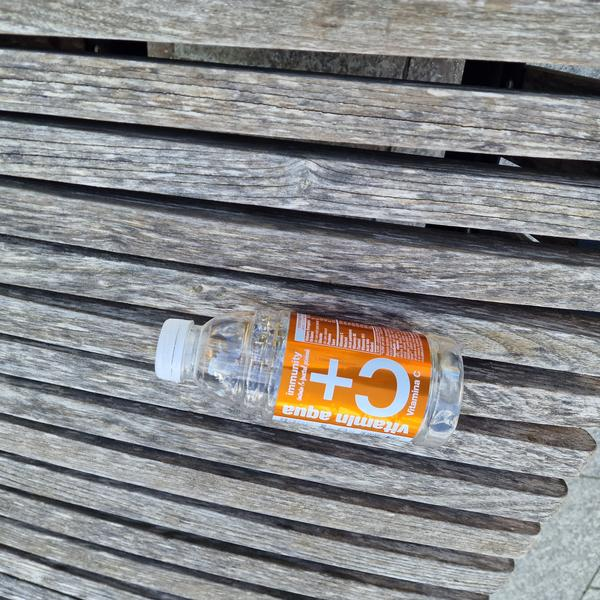plastic_bottle: (145, 289, 471, 455)
